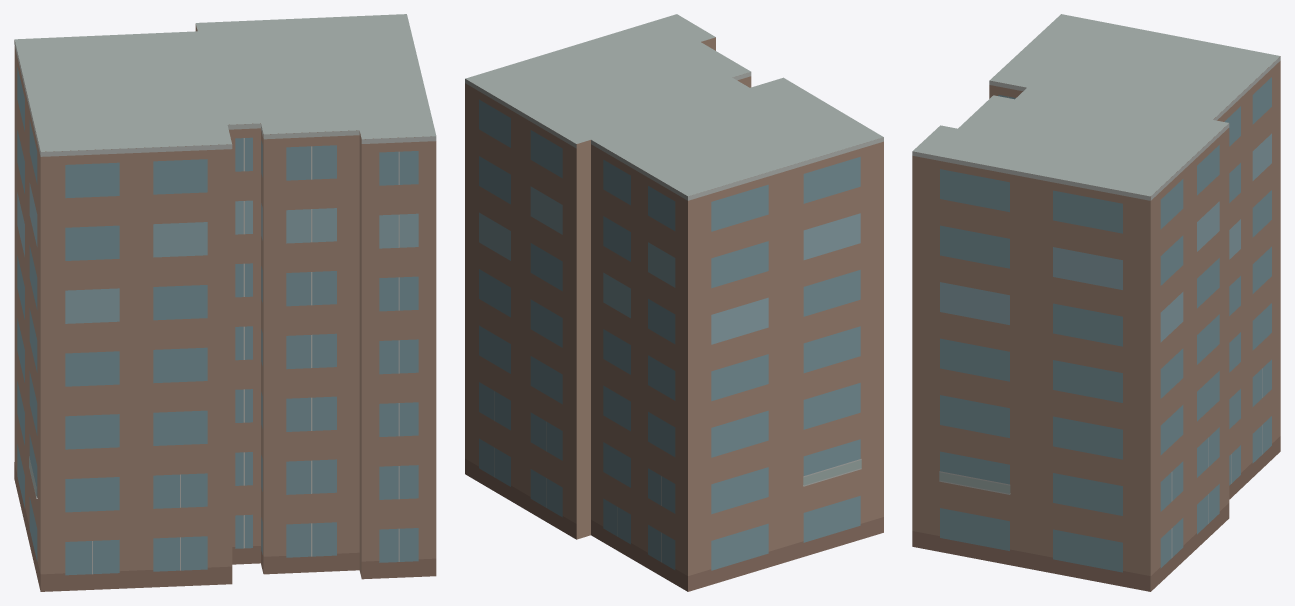
The model's file is survey-upis-32522691.glb.
The picture shows the model from 3 angles, left to right: view 1: azimuth 30°, elevation 25°; view 2: azimuth 150°, elevation 25°; view 3: azimuth 270°, elevation 25°; orthographic projection. The views are drawn at different scales.
Visible parts, largest first — view 1: survey-upis-32522691.tmp; view 2: survey-upis-32522691.tmp; view 3: survey-upis-32522691.tmp.
Boxes of the visible parts, x1=… form: survey-upis-32522691.tmp: x1=14, y1=14, x2=436, y2=591; survey-upis-32522691.tmp: x1=465, y1=14, x2=883, y2=591; survey-upis-32522691.tmp: x1=912, y1=14, x2=1280, y2=591.
Size of the model in its own units: 21.64 by 21.85 by 18.45.
